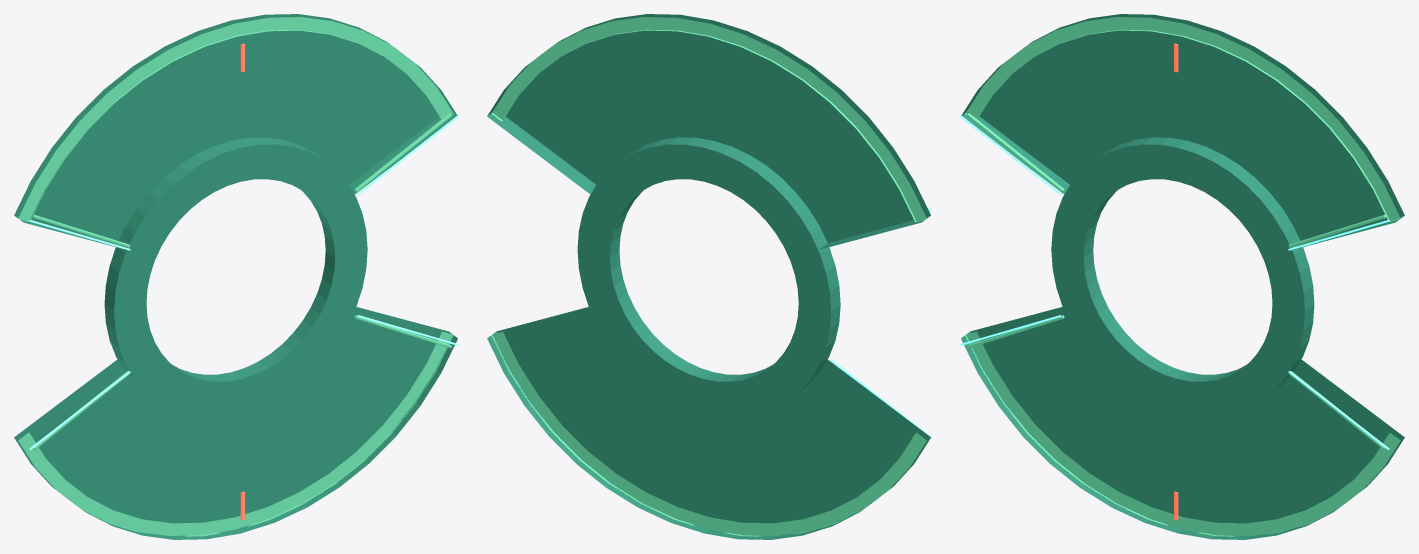
The model's file is bio-panel-fun9-medium.glb.
The picture shows the model from 3 angles, left to right: view 1: azimuth 30°, elevation 25°; view 2: azimuth 150°, elevation 25°; view 3: azimuth 330°, elevation 25°; orthographic projection.
Parts seen in each view (by area): view 1: RENDER_PANEL_SHELL, RENDER_PANEL_FRAME, RENDER_PANEL_SIGNAL; view 2: RENDER_PANEL_SHELL, RENDER_PANEL_FRAME; view 3: RENDER_PANEL_SHELL, RENDER_PANEL_FRAME, RENDER_PANEL_SIGNAL.
Boxes of the visible parts, x1,y1,x2,y2 form: RENDER_PANEL_SHELL: [14, 14, 457, 539]; RENDER_PANEL_FRAME: [18, 17, 453, 536]; RENDER_PANEL_SIGNAL: [29, 115, 458, 450]; RENDER_PANEL_SHELL: [487, 14, 930, 539]; RENDER_PANEL_FRAME: [491, 17, 926, 536]; RENDER_PANEL_SHELL: [961, 14, 1404, 539]; RENDER_PANEL_FRAME: [965, 17, 1400, 536]; RENDER_PANEL_SIGNAL: [960, 115, 1389, 450].
Size of what is drawn, in the model's own units: 36.85 by 41 by 1.95.
